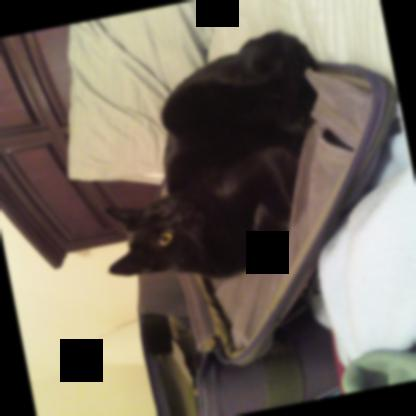suitcase: (136, 61, 394, 416)
